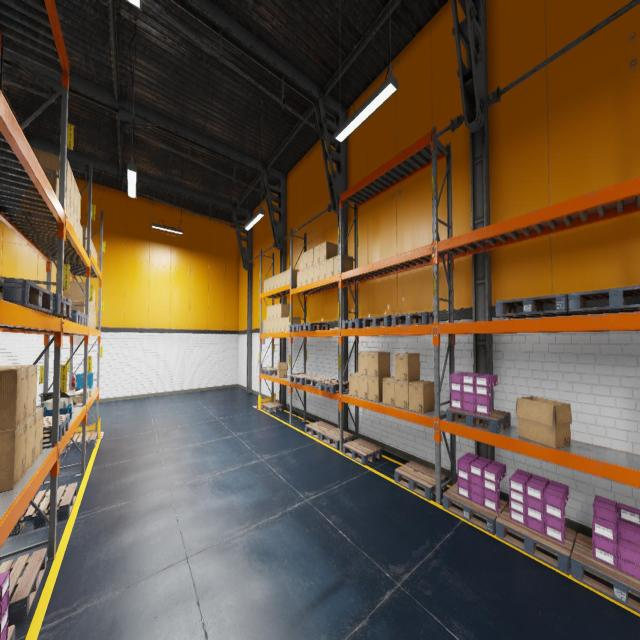box: (516, 396, 572, 448), (31, 147, 71, 201), (0, 364, 37, 420), (0, 421, 26, 492), (0, 367, 28, 430), (409, 379, 434, 414), (394, 352, 420, 382), (24, 414, 36, 474), (63, 281, 90, 306), (41, 165, 59, 199), (368, 351, 390, 377), (368, 376, 390, 402), (34, 407, 44, 462), (358, 351, 377, 376), (333, 254, 352, 275), (66, 300, 85, 320), (395, 380, 408, 409), (382, 376, 394, 406), (320, 241, 337, 262), (358, 374, 368, 400), (349, 372, 358, 397), (286, 316, 300, 332), (286, 269, 300, 284), (277, 302, 290, 318), (276, 362, 288, 378), (74, 386, 89, 398), (326, 257, 334, 277), (70, 171, 74, 209), (81, 225, 87, 250), (74, 180, 78, 216), (314, 262, 320, 282), (320, 260, 326, 280), (314, 245, 320, 265), (66, 193, 70, 222), (70, 395, 83, 403), (70, 202, 74, 228), (302, 250, 307, 270), (308, 248, 313, 267), (308, 266, 313, 284), (302, 268, 307, 285), (297, 270, 302, 286), (74, 210, 77, 234), (77, 217, 80, 240), (78, 189, 80, 223), (282, 270, 286, 286), (80, 224, 83, 244), (282, 317, 286, 332), (277, 318, 281, 332), (278, 272, 282, 286), (274, 274, 278, 288), (270, 276, 274, 290), (266, 306, 270, 319), (266, 320, 270, 332), (274, 318, 277, 332), (274, 304, 277, 318), (270, 305, 273, 319), (267, 277, 270, 291), (90, 307, 92, 327), (92, 289, 94, 309), (270, 319, 273, 332), (93, 310, 95, 328), (94, 310, 96, 328), (88, 389, 92, 396), (90, 238, 92, 252), (93, 244, 95, 258), (74, 389, 83, 392), (264, 320, 266, 333), (264, 279, 266, 292), (89, 306, 90, 326), (92, 308, 93, 328), (94, 290, 95, 310), (92, 242, 93, 256), (95, 248, 96, 262), (96, 252, 97, 264), (90, 302, 92, 307), (66, 192, 66, 210)
pallets: (496, 502, 576, 575), (570, 532, 640, 613), (8, 482, 77, 537), (0, 548, 47, 626), (442, 481, 508, 535), (568, 285, 640, 315), (394, 461, 447, 500), (0, 278, 53, 314), (495, 294, 574, 318), (446, 407, 510, 433), (343, 439, 382, 465), (61, 431, 98, 454), (43, 414, 69, 444), (320, 427, 354, 449), (46, 293, 72, 318), (305, 420, 335, 440), (392, 312, 433, 326), (319, 379, 349, 394), (305, 376, 335, 388), (290, 373, 318, 385), (362, 316, 392, 327), (63, 313, 88, 326), (299, 322, 330, 331), (342, 318, 369, 328), (262, 401, 284, 413), (68, 309, 82, 324), (7, 624, 15, 640), (261, 368, 277, 375), (288, 324, 299, 331)
